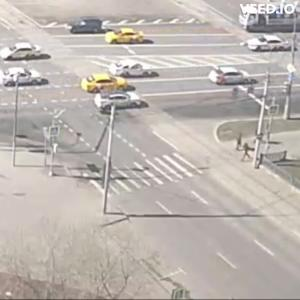car: (96, 92, 149, 114), (2, 43, 48, 64), (3, 68, 50, 88), (82, 74, 127, 94), (112, 60, 157, 78), (103, 30, 146, 47), (247, 36, 289, 53), (211, 71, 252, 87), (69, 20, 106, 36)
